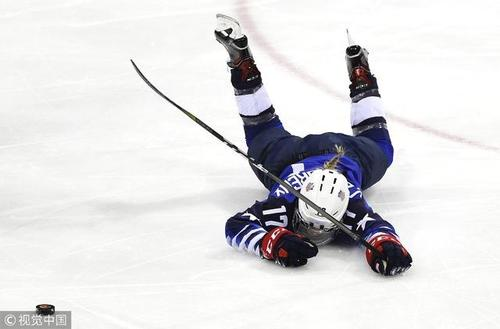fall: (198, 15, 417, 272)
